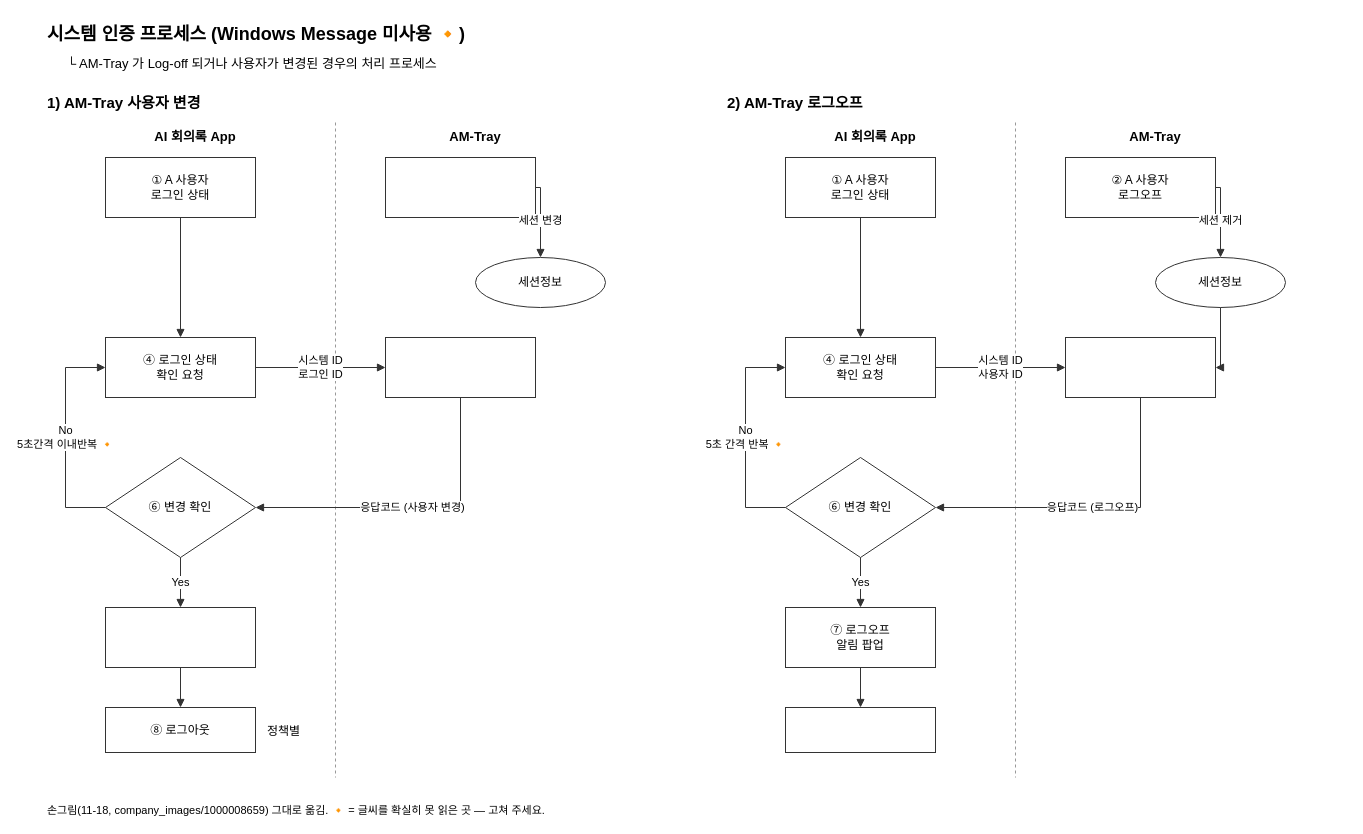
Some shapes in this 1363 by 834 pixel diagram are drawn without their labels. The centre of each missing label's shape, as x and y in pixels:
"② B 사용자 로그인" belongs at point 460,187.
"⑤ 사용자 확인 (ID 비교)" belongs at point 460,367.
"⑤ 사용자 확인 (세션 확인)" belongs at point 1140,367.
"⑦ 사용자 변경 알림 팝업" belongs at point 180,637.
"⑧ 정책 기준 처리 🔸" belongs at point 860,729.
